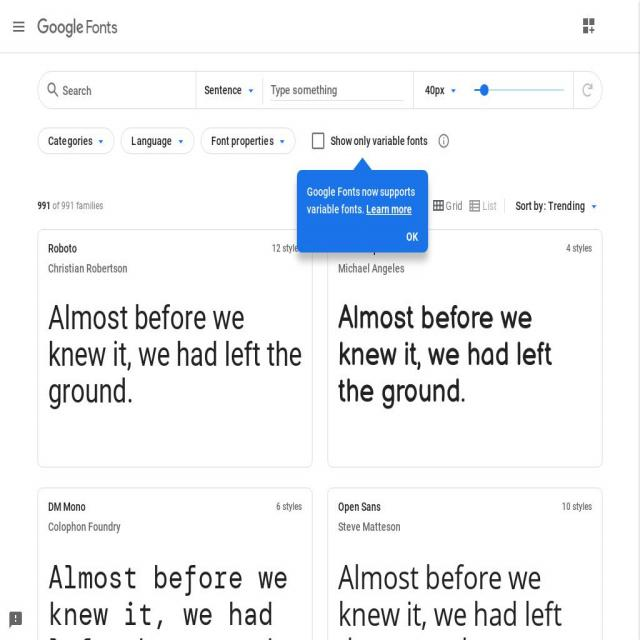field: (266, 65, 414, 113)
form: (35, 58, 605, 128)
navigation-blocks: (34, 222, 604, 628)
options: (9, 12, 30, 43)
search: (42, 70, 206, 113)
